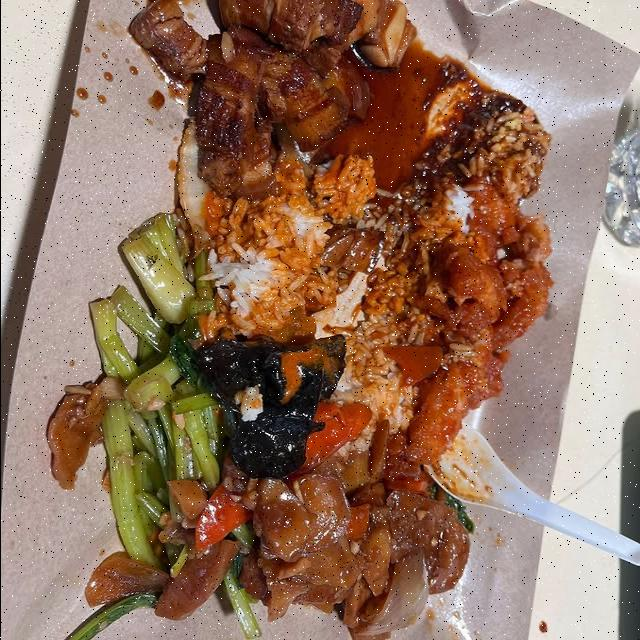Green veg: (90, 213, 227, 575), (221, 525, 261, 639), (66, 592, 157, 639)
Non green veg: (85, 481, 249, 619), (47, 378, 122, 488), (300, 402, 371, 470)
Pork: (130, 0, 416, 199)
Potato: (251, 461, 469, 639)
Rice: (201, 92, 549, 429)
